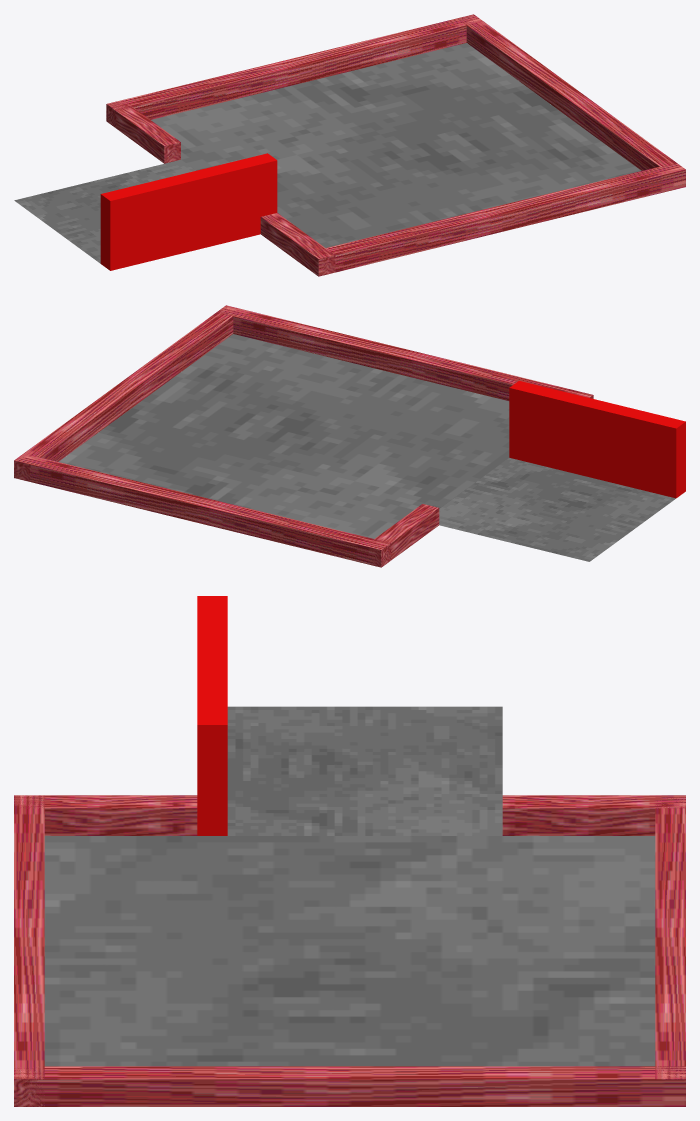
File: StartRoom Nivel 2.fbx
The picture shows the model from 3 angles, top to bottom: view 1: azimuth 30°, elevation 25°; view 2: azimuth 150°, elevation 25°; view 3: azimuth 270°, elevation 25°; orthographic projection. The views are drawn at different scales.
Parts seen in each view (by area): view 1: Ground, Door, Wall__2_, Wall__3_, Wall__7_, GameObject, Wall__6_, Wall__5_; view 2: Ground, GameObject, Door, Wall__3_, Wall__2_, Wall__7_, Wall__5_; view 3: Ground, GameObject, Wall__7_, Wall__2_, Wall__3_, Door, Wall__5_, Wall__6_.
Part boxes in pixels (bbox=[...]): Ground: bbox=[151, 43, 641, 247]; Door: bbox=[100, 153, 277, 270]; Wall__2_: bbox=[310, 163, 685, 276]; Wall__3_: bbox=[106, 14, 482, 127]; Wall__7_: bbox=[457, 15, 676, 170]; GameObject: bbox=[14, 159, 195, 263]; Wall__6_: bbox=[260, 213, 335, 276]; Wall__5_: bbox=[108, 100, 180, 163]; Ground: bbox=[58, 334, 509, 538]; GameObject: bbox=[439, 458, 675, 561]; Door: bbox=[509, 381, 685, 498]; Wall__3_: bbox=[14, 455, 390, 567]; Wall__2_: bbox=[217, 305, 592, 400]; Wall__7_: bbox=[14, 305, 240, 481]; Wall__5_: bbox=[368, 504, 439, 567]; Ground: bbox=[44, 836, 655, 1066]; GameObject: bbox=[227, 706, 502, 835]; Wall__7_: bbox=[14, 1066, 685, 1106]; Wall__2_: bbox=[14, 795, 44, 1106]; Wall__3_: bbox=[655, 799, 685, 1079]; Door: bbox=[197, 596, 227, 835]; Wall__5_: bbox=[502, 795, 685, 835]; Wall__6_: bbox=[14, 795, 197, 835].
Size of what is drawn, in the model's own units: 3100 by 400 by 2200.
3 materials, 2 textured.
